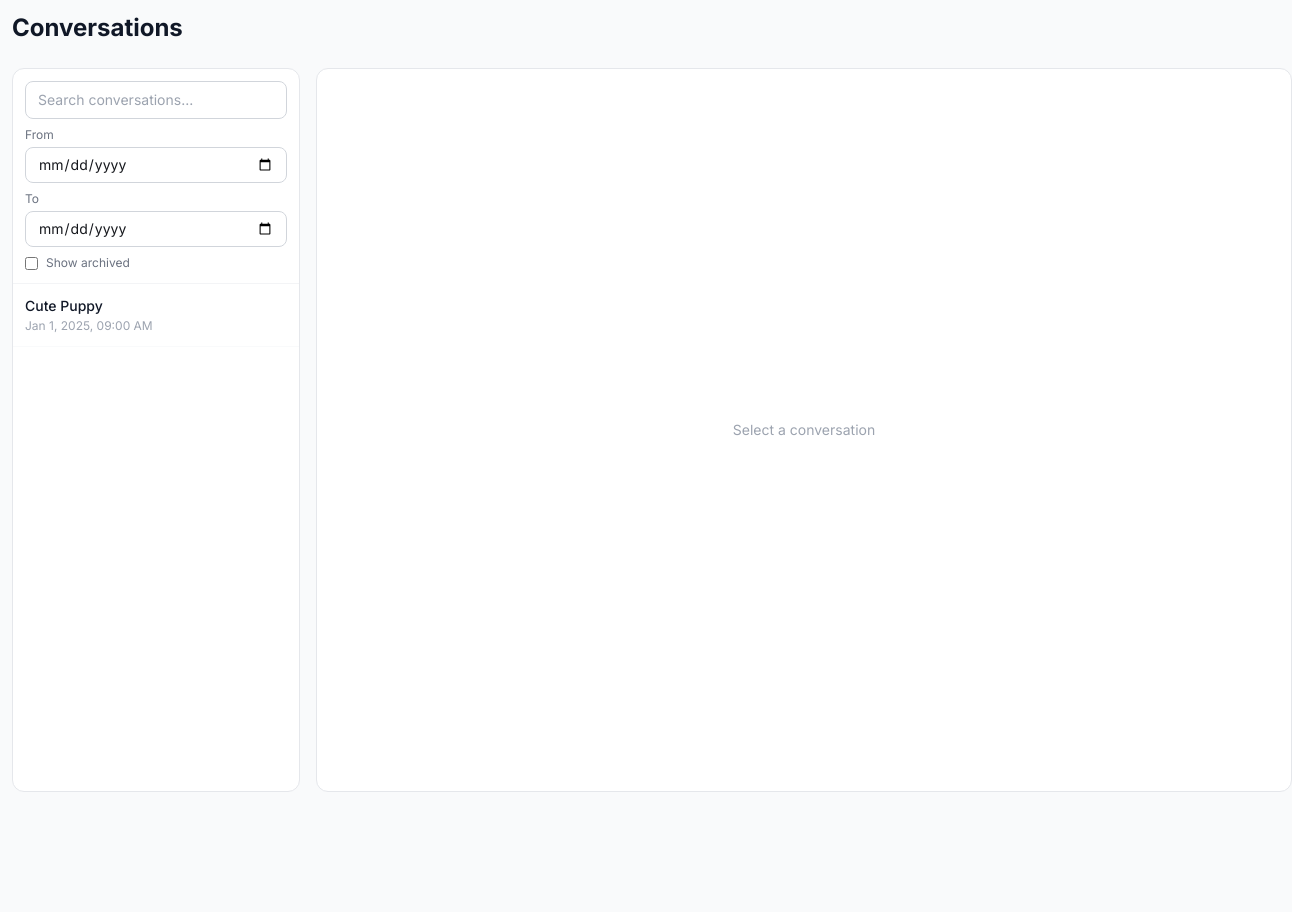
it: Internal note visibility — role-based filtering › vendor sees internal notes
Click the text "Cute Puppy".
click(64, 306)  # box x1=25 y1=297 x2=103 y2=314
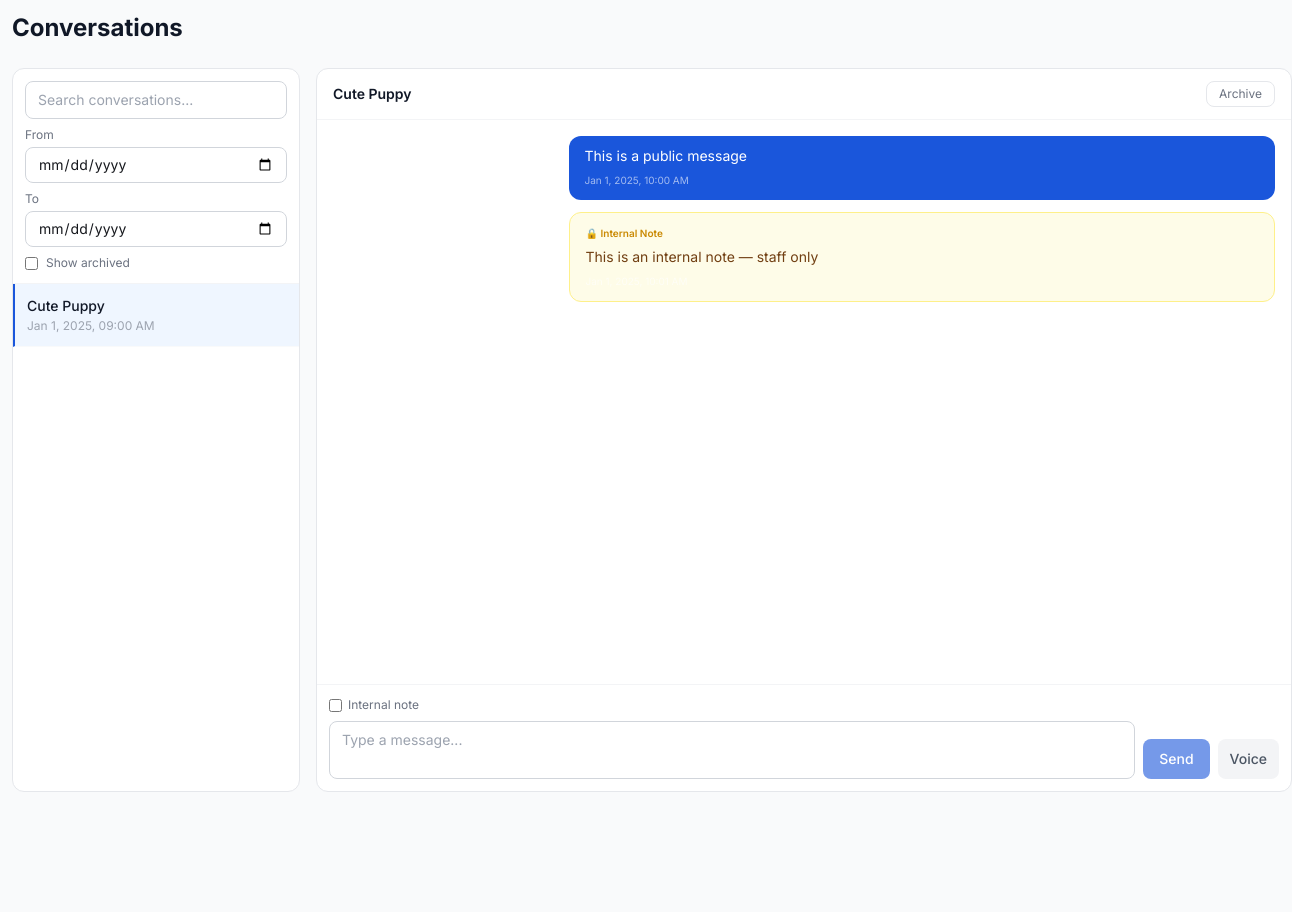
Check: the text "This is an internal note — staff only" is shown, box x1=586 y1=248 x2=818 y2=265
